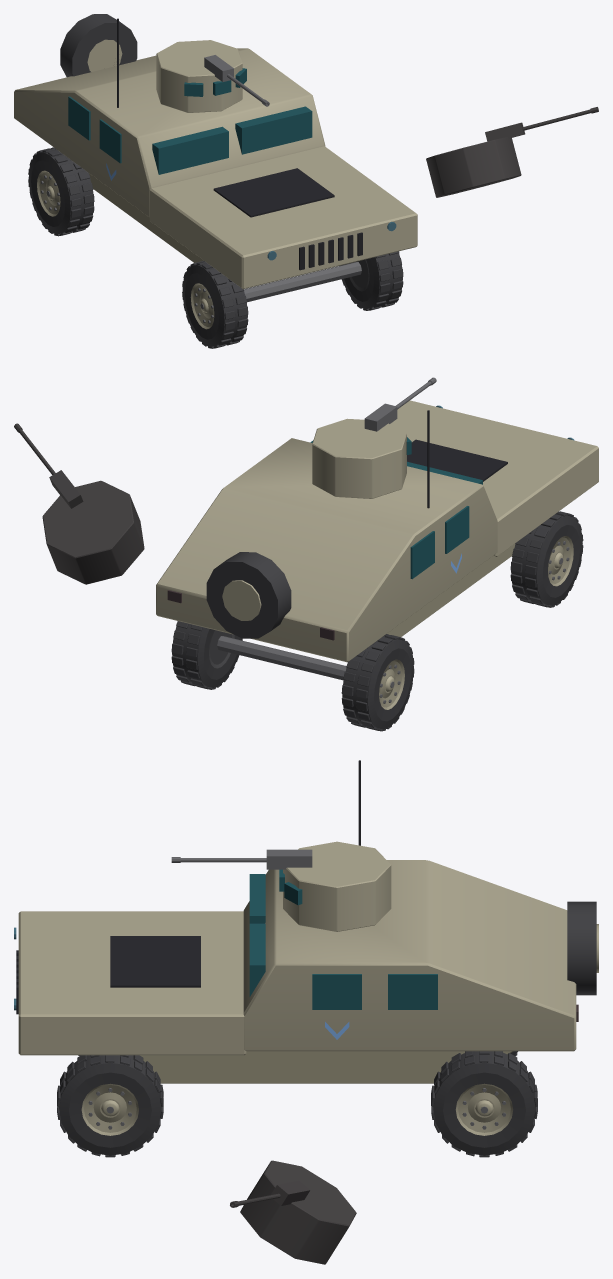
Rendered from apc__humvee_captured.glb.
3 renders of one model, top to bottom at view 1: azimuth 30°, elevation 25°; view 2: azimuth 150°, elevation 25°; view 3: azimuth 270°, elevation 25°, orthographic. The views are drawn at different scales.
Visible parts, largest first — view 1: Hull_Mesh, Turret_Mesh, Wreck, Wheel_L0_Mesh, Wheel_L1_Mesh, Wheel_R1_Mesh, Gun_Mesh; view 2: Hull_Mesh, Wreck, Turret_Mesh, Wheel_L0_Mesh, Wheel_L1_Mesh, Wheel_R0_Mesh, Gun_Mesh; view 3: Hull_Mesh, Wheel_R0_Mesh, Wheel_R1_Mesh, Turret_Mesh, Wreck, Gun_Mesh.
Boxes of the visible parts, x1,y1,x2,y2 form: Hull_Mesh: (14,14,417,302); Turret_Mesh: (156,40,246,112); Wreck: (37,107,598,347); Wheel_L0_Mesh: (28,147,94,236); Wheel_L1_Mesh: (182,261,248,348); Wheel_R1_Mesh: (341,251,403,310); Gun_Mesh: (204,55,269,106); Hull_Mesh: (156,400,598,680); Wreck: (14,423,549,607); Turret_Mesh: (312,418,411,498); Wheel_L0_Mesh: (341,634,414,731); Wheel_L1_Mesh: (510,511,583,607); Wheel_R0_Mesh: (171,621,242,689); Gun_Mesh: (364,377,436,431); Hull_Mesh: (14,760,598,1083); Wheel_R0_Mesh: (431,1051,537,1157); Wheel_R1_Mesh: (57,1055,163,1157); Turret_Mesh: (279,841,391,931); Wreck: (123,1152,503,1264); Gun_Mesh: (171,849,312,869).
Size of what is drawn, in the model's own units: 5.55 by 2.93 by 5.16.
